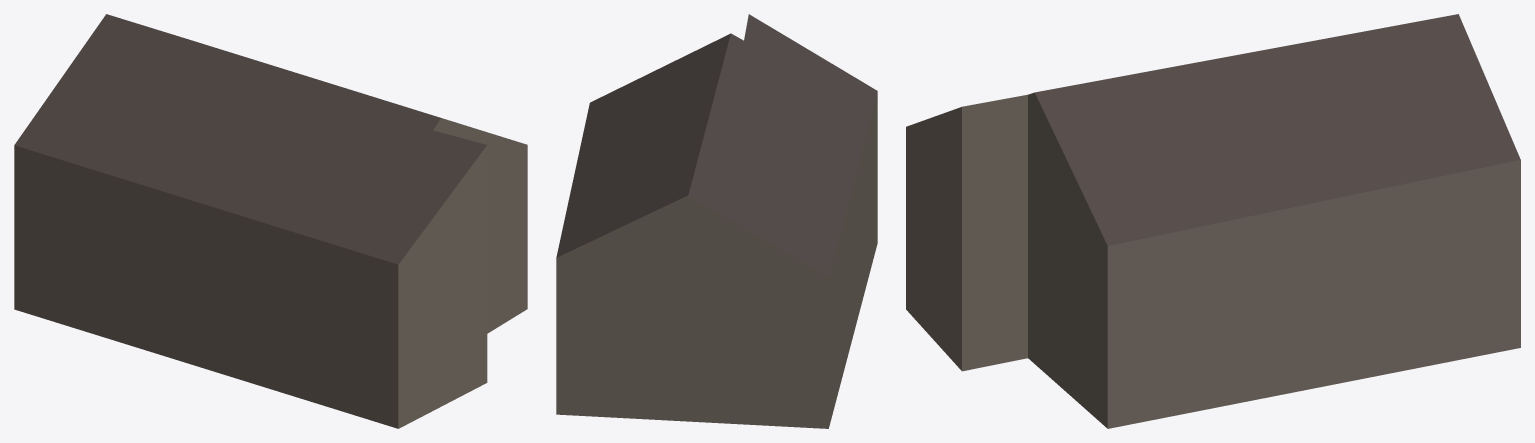
3 renders of one model, left to right at view 1: azimuth 30°, elevation 25°; view 2: azimuth 150°, elevation 25°; view 3: azimuth 270°, elevation 25°, orthographic. The views are drawn at different scales.
Visible parts, largest first — view 1: HP-w783664809; view 2: HP-w783664809; view 3: HP-w783664809.
Boxes of the visible parts, x1,y1,x2,y2 form: HP-w783664809: [14, 14, 527, 428]; HP-w783664809: [556, 14, 877, 428]; HP-w783664809: [906, 14, 1520, 428].
Size of the model in its own units: 14.74 by 8.92 by 18.28.
